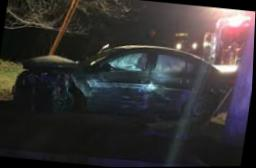Bonnet: (23, 55, 80, 73)
Bumper: (13, 70, 52, 110)
Door: (85, 50, 155, 113)
Fender: (41, 70, 93, 97)
